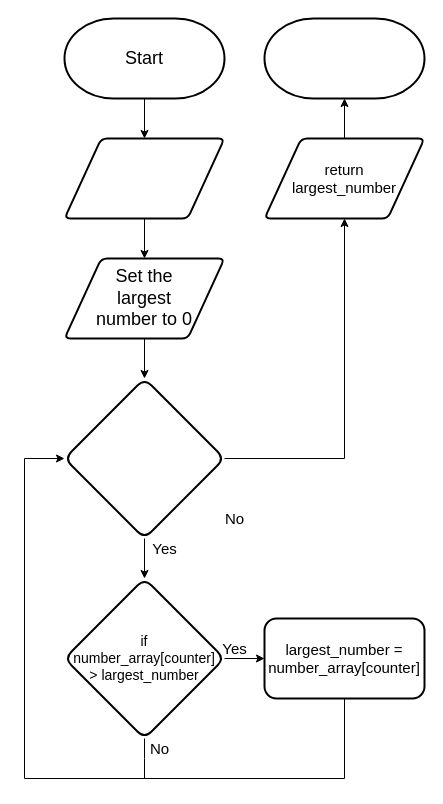
Image size: 443x804. Some labels were removed from this diagram. Here are the shapes that lost their labels. From the top down, the box of each, then its label:
(263, 17, 425, 99): Stop
(63, 137, 225, 219): Set the number array
(63, 377, 225, 539): for counter in range(0, len( number_array))
